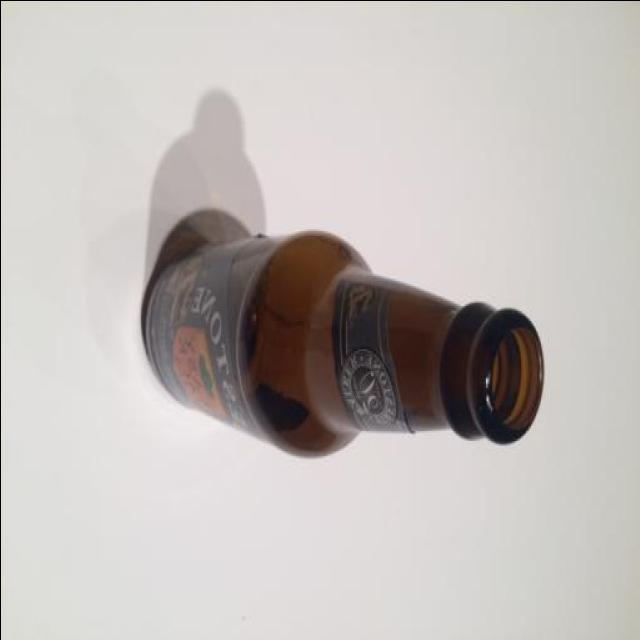glass: (41, 208, 548, 502)
